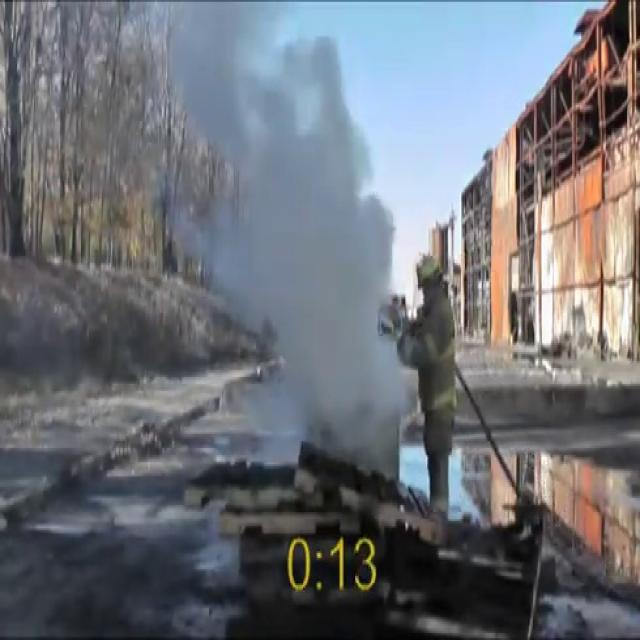Smoke: (186, 11, 420, 486)
